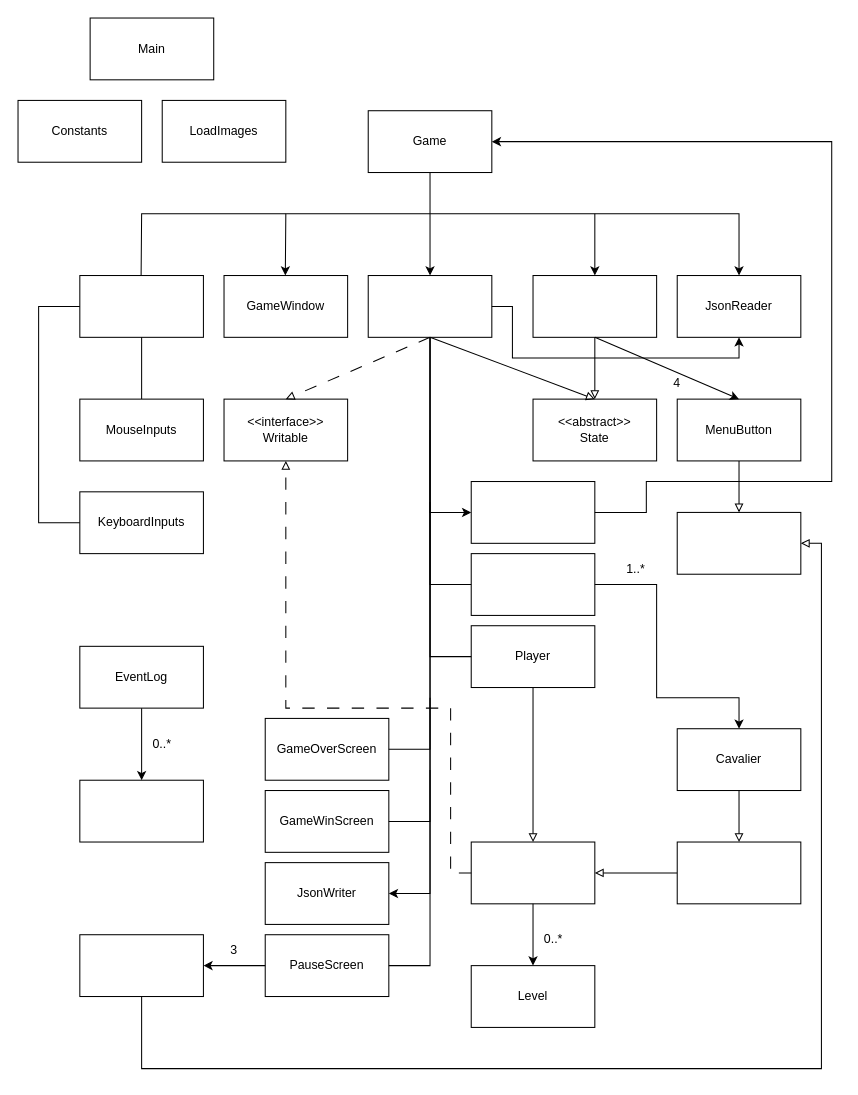
This 858x1095 diagram has some shape labels left out. Here are the shapes that lost their labels. From the top down, the box of each, then its label:
(79, 274, 203, 337): GamePanel
(367, 274, 492, 337): Playing
(532, 274, 657, 337): Menu
(470, 480, 595, 543): WorldHandler
(676, 511, 801, 574): <<abstract>> Button
(470, 553, 595, 615): EnemyHandler
(79, 779, 203, 842): Event
(470, 841, 595, 904): <<abstract>> Character
(676, 841, 801, 904): <<abstract>> Enemy
(79, 934, 203, 997): PauseButton
